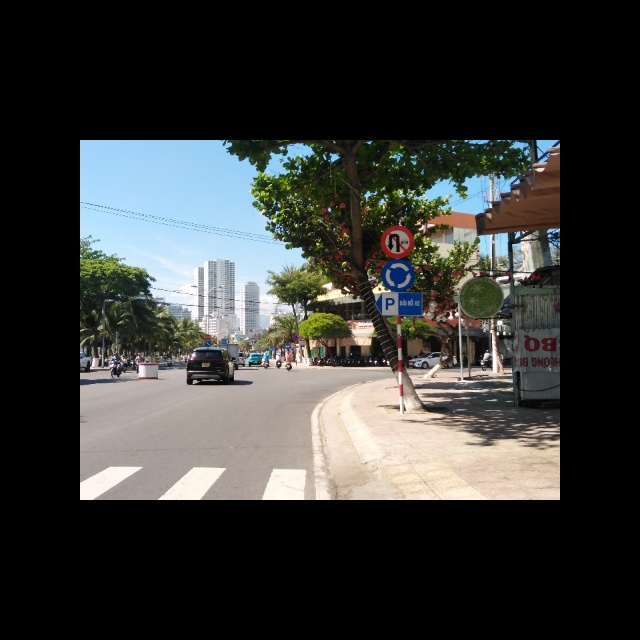Cấm xe ô tô quay đầu: (381, 226, 414, 259)
Nơi giao nhau chạy theo vòng xuyến: (381, 260, 415, 292)
Nơi đỗ xe: (375, 292, 423, 317)
